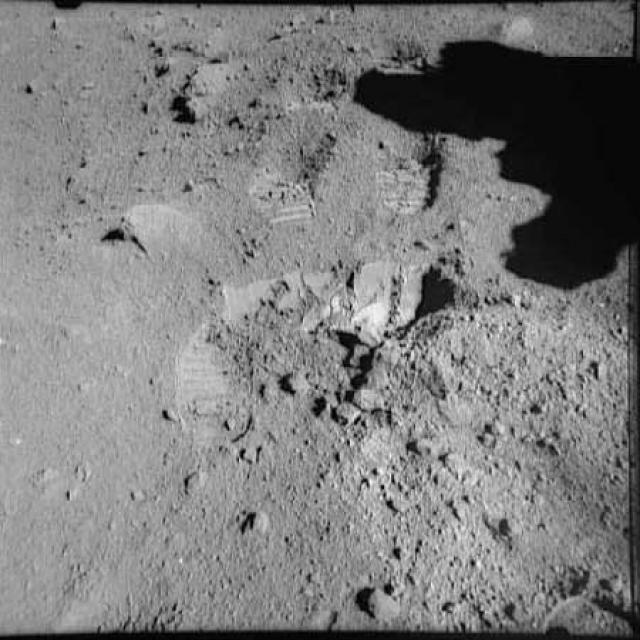rock: (175, 58, 240, 121)
